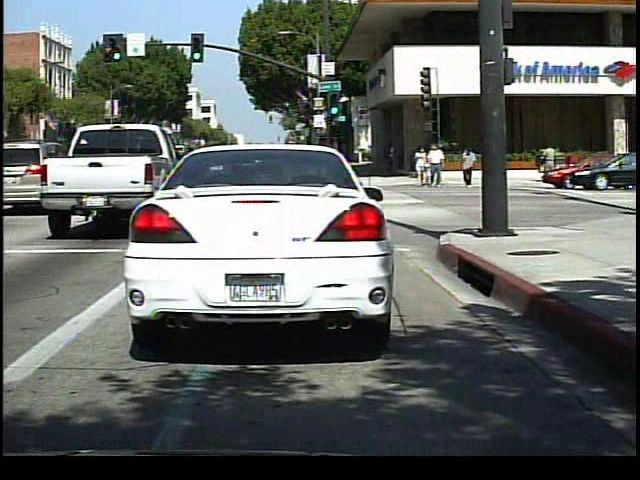person: (426, 141, 446, 189), (538, 141, 559, 185), (459, 143, 478, 189), (412, 143, 430, 190)
